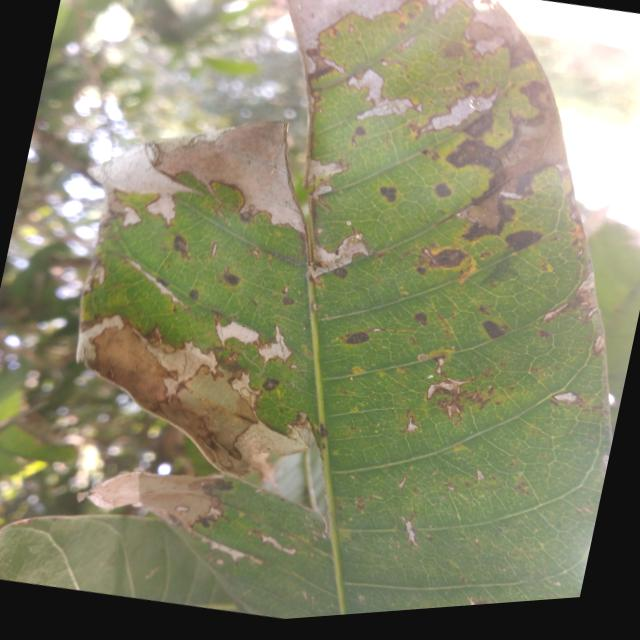Anthracnose: (409, 233, 487, 290), (493, 217, 552, 269), (465, 310, 512, 347), (372, 172, 407, 212), (340, 323, 380, 357), (209, 265, 248, 299), (428, 172, 463, 208), (166, 228, 199, 260)
Bacterial Cancer: (75, 299, 324, 498), (81, 118, 317, 274)
